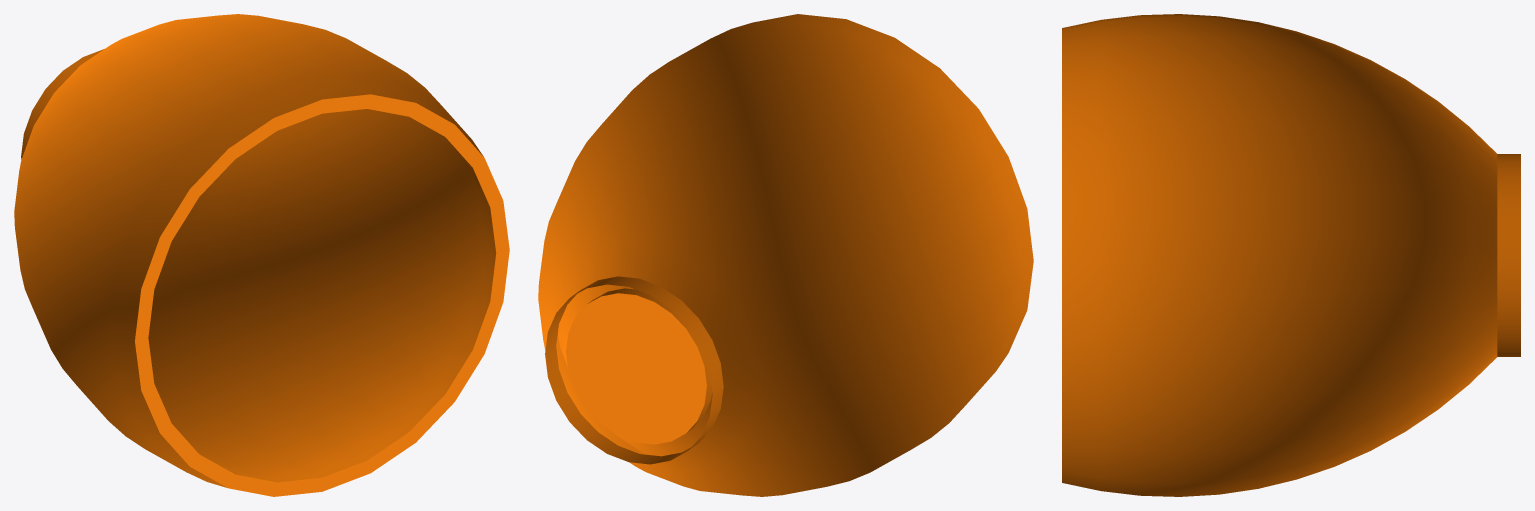
The model's file is model_scale.obj.
3 views of the same model, side by side, from view 1: azimuth 30°, elevation 25°; view 2: azimuth 150°, elevation 25°; view 3: azimuth 270°, elevation 25° (orthographic). The views are drawn at different scales.
Visible parts, largest first — view 1: mesh1_mesh1-geometry; view 2: mesh1_mesh1-geometry; view 3: mesh1_mesh1-geometry.
Boxes of the visible parts, bbox=[...] form: mesh1_mesh1-geometry: bbox=[14, 14, 509, 496]; mesh1_mesh1-geometry: bbox=[538, 14, 1033, 496]; mesh1_mesh1-geometry: bbox=[1062, 14, 1520, 496].
Size of the model in its own units: 0.0911 by 0.0911 by 0.0862.
